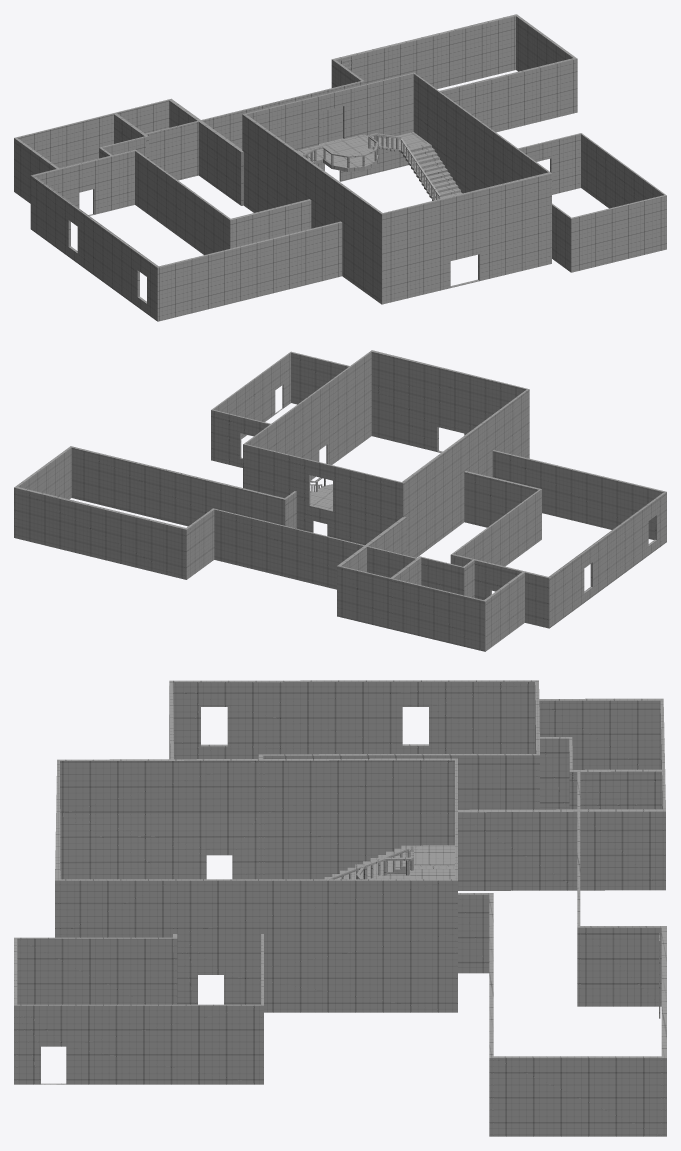
Rendered from BlockOut.fbx.
3 views of the same model, one above another, from view 1: azimuth 30°, elevation 25°; view 2: azimuth 150°, elevation 25°; view 3: azimuth 270°, elevation 25° (orthographic). The views are drawn at different scales.
Visible parts, largest first — view 1: BlockOut-lvl1; view 2: BlockOut-lvl1; view 3: BlockOut-lvl1.
Part boxes in pixels (x1,y1,x2,y2): BlockOut-lvl1: (14,14,666,321); BlockOut-lvl1: (14,350,666,651); BlockOut-lvl1: (14,680,666,1136).
Size of the model in its own units: 51.42 by 8.44 by 37.57.
